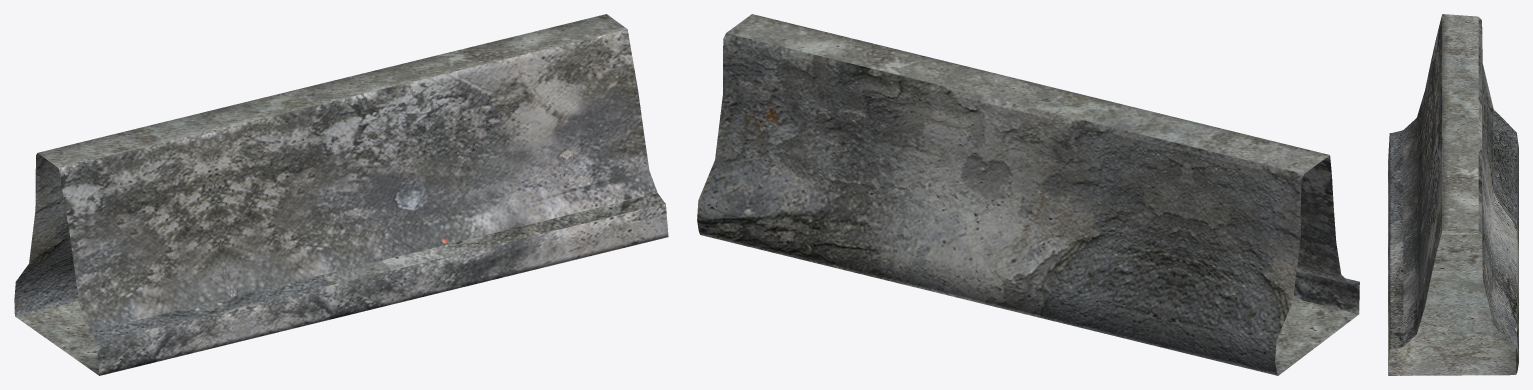
Rendered from loftNurbs.obj.
3 renders of one model, left to right at view 1: azimuth 30°, elevation 25°; view 2: azimuth 150°, elevation 25°; view 3: azimuth 270°, elevation 25°, orthographic. The views are drawn at different scales.
Parts seen in each view (by area): view 1: loftNurbs_1; view 2: loftNurbs_1; view 3: loftNurbs_1.
Part boxes in pixels (left/top/right/bottom): loftNurbs_1: left=14, top=14, right=668, bottom=375; loftNurbs_1: left=697, top=14, right=1359, bottom=375; loftNurbs_1: left=1388, top=14, right=1518, bottom=375.
Bounding box in the file's own units: 21.34 × 6.52 × 5.39.
